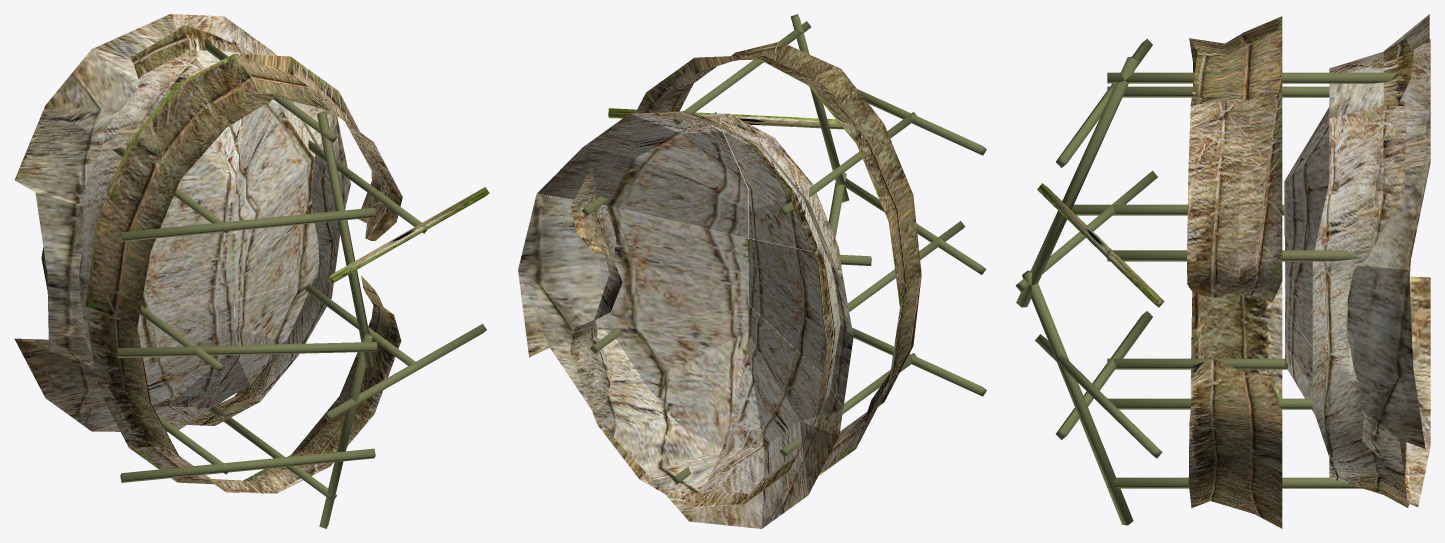
The model's file is hut_000024.obj.
The picture shows the model from 3 angles, left to right: view 1: azimuth 30°, elevation 25°; view 2: azimuth 150°, elevation 25°; view 3: azimuth 270°, elevation 25°; orthographic projection. The views are drawn at different scales.
Visible parts, largest first — view 1: Sphere.002, Sphere.001, Sphere.004, Sphere.003, Sphere.008, Sphere.007, Sphere.006, Sphere.005, Sphere, Cylinder.008_Cylinder.010, Cylinder.012_Cylinder.013, Cylinder.013_Cylinder.014 (+11 smaller); view 2: Sphere.005, Sphere, Sphere.008, Sphere.006, Sphere.003, Sphere.001, Sphere.007, Sphere.002, Sphere.004, Cylinder.010_Cylinder.011, Cylinder.013_Cylinder.014, Cylinder.012_Cylinder.013 (+6 smaller); view 3: Sphere.003, Sphere.001, Sphere.002, Sphere.005, Sphere.006, Sphere.008, Cylinder.009, Cylinder.007, Sphere, Cylinder.001, Cylinder.006, Cylinder.004 (+10 smaller).
Boxes of the visible parts, <box> form: Sphere.002: <box>85,54,384,484</box>; Sphere.001: <box>116,78,402,493</box>; Sphere.004: <box>14,14,234,235</box>; Sphere.003: <box>41,25,340,425</box>; Sphere.008: <box>14,301,234,432</box>; Sphere.007: <box>35,192,234,339</box>; Sphere.006: <box>169,14,334,234</box>; Sphere.005: <box>234,114,350,300</box>; Sphere: <box>179,278,317,429</box>; Cylinder.008_Cylinder.010: <box>117,342,377,357</box>; Cylinder.012_Cylinder.013: <box>120,448,375,482</box>; Cylinder.013_Cylinder.014: <box>120,207,375,241</box>; Sphere.005: <box>518,194,748,357</box>; Sphere: <box>550,304,748,520</box>; Sphere.008: <box>689,304,842,528</box>; Sphere.006: <box>537,111,748,238</box>; Sphere.003: <box>570,112,841,508</box>; Sphere.001: <box>659,41,921,444</box>; Sphere.007: <box>748,238,853,408</box>; Sphere.002: <box>635,55,907,475</box>; Sphere.004: <box>687,112,841,276</box>; Cylinder.010_Cylinder.011: <box>608,108,843,129</box>; Cylinder.013_Cylinder.014: <box>857,89,986,155</box>; Cylinder.012_Cylinder.013: <box>852,327,986,396</box>; Sphere.003: <box>1312,38,1413,507</box>; Sphere.001: <box>1187,33,1254,514</box>; Sphere.002: <box>1232,16,1282,528</box>; Sphere.005: <box>1285,236,1425,448</box>; Sphere.006: <box>1285,39,1430,269</box>; Sphere.008: <box>1285,276,1430,506</box>; Cylinder.009: <box>1016,56,1138,307</box>; Cylinder.007: <box>1022,270,1133,525</box>; Sphere: <box>1285,311,1416,506</box>; Cylinder.001: <box>1107,72,1397,83</box>; Cylinder.006: <box>1107,358,1287,369</box>; Cylinder.004: <box>1107,250,1361,261</box>.
Bounding box in the file's own units: 4.43 × 4.88 × 3.77.
